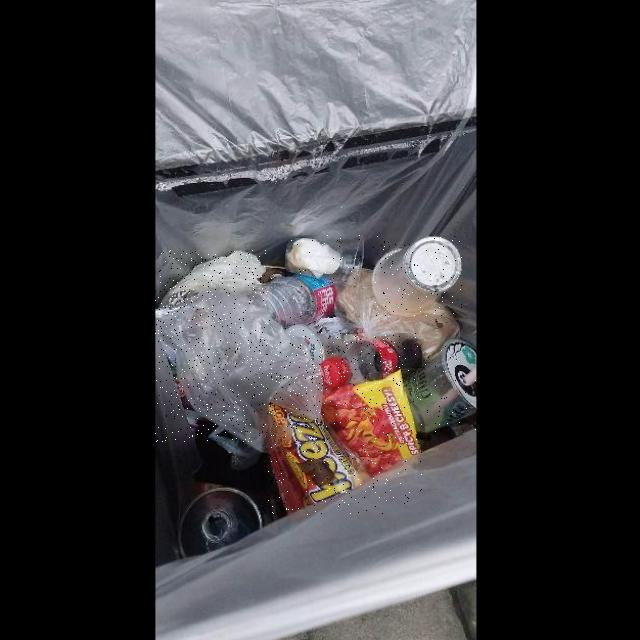paper: (287, 239, 342, 278)
plastic: (156, 288, 325, 443), (372, 236, 462, 317), (405, 339, 476, 434), (160, 250, 267, 308), (320, 334, 422, 389), (244, 275, 340, 329), (285, 236, 364, 287)
wrapper: (269, 371, 422, 515)
